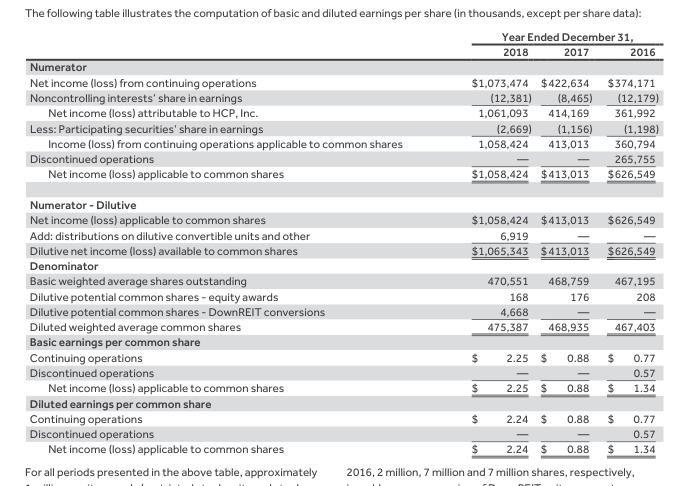table: (28, 28, 658, 455)
table column: (28, 28, 436, 455), (436, 28, 535, 455), (535, 28, 599, 455), (599, 28, 658, 455)
table column header: (28, 28, 658, 58)
table projected row header: (28, 188, 658, 211), (28, 58, 658, 74), (28, 333, 658, 349), (28, 394, 658, 410), (28, 257, 658, 272)
table row: (28, 165, 658, 188), (28, 188, 658, 211), (28, 58, 658, 74), (28, 119, 658, 135), (28, 226, 658, 242), (28, 287, 658, 303), (28, 333, 658, 349), (28, 394, 658, 410), (28, 28, 658, 43), (28, 43, 658, 58), (28, 74, 658, 89), (28, 89, 658, 104), (28, 104, 658, 119), (28, 135, 658, 150), (28, 150, 658, 165), (28, 211, 658, 226), (28, 242, 658, 257), (28, 257, 658, 272), (28, 272, 658, 287), (28, 303, 658, 318), (28, 318, 658, 333), (28, 349, 658, 364), (28, 364, 658, 379), (28, 379, 658, 394), (28, 410, 658, 425), (28, 425, 658, 440), (28, 440, 658, 455)
table spanning cell: (436, 28, 658, 43)
